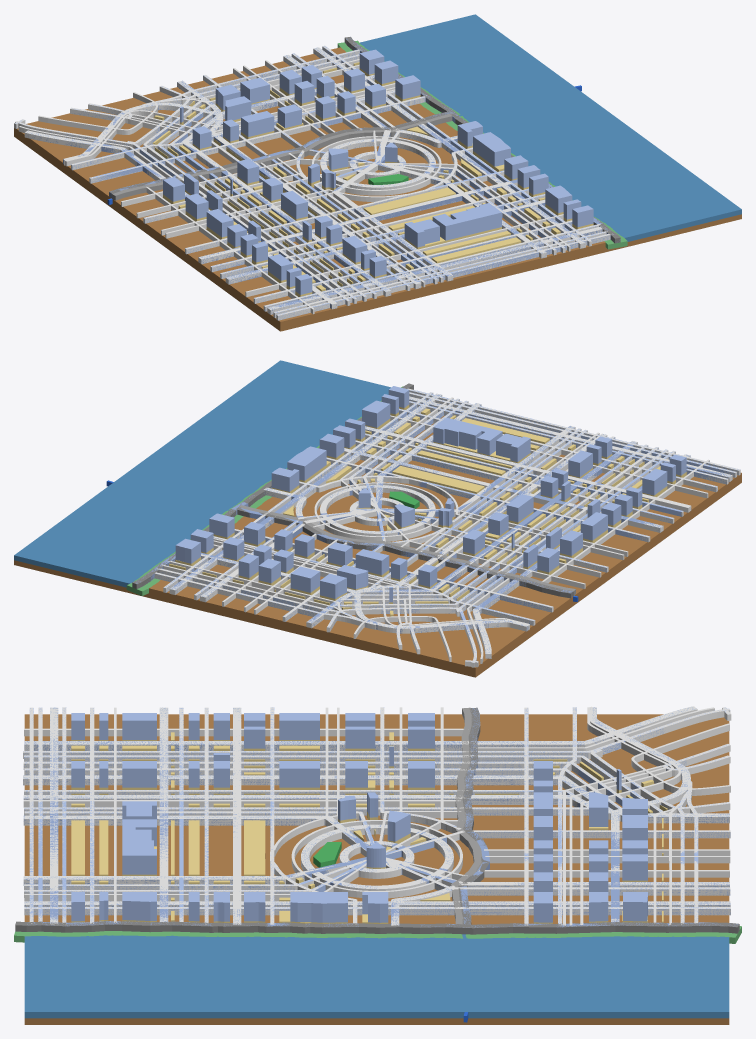
File: city.glb
3 views of the same model, one above another, from view 1: azimuth 30°, elevation 25°; view 2: azimuth 150°, elevation 25°; view 3: azimuth 270°, elevation 25° (orthographic). The views are drawn at different scales.
Parts seen in each view (by area): view 1: roads, sea, buildings_divided, ground, major_roads, blocks, main_roads, water_roads_secondary, water_roads, coastline; view 2: roads, sea, buildings_divided, ground, major_roads, blocks, main_roads, water_roads, water_roads_secondary, coastline; view 3: roads, sea, ground, buildings_divided, major_roads, main_roads, blocks, water_roads, coastline, water_roads_secondary, big_parks.
Part boxes in pixels (x1,y1,x2,y2): roads: (14, 45, 610, 320); sea: (360, 14, 741, 241); buildings_divided: (163, 49, 593, 294); ground: (14, 47, 741, 331); major_roads: (15, 46, 610, 319); blocks: (152, 62, 593, 296); main_roads: (27, 38, 620, 314); water_roads_secondary: (111, 113, 452, 200); water_roads: (109, 37, 620, 243); coastline: (337, 40, 627, 249); roads: (154, 388, 740, 667); sea: (14, 360, 390, 587); buildings_divided: (175, 386, 686, 602); ground: (14, 412, 741, 677); major_roads: (155, 390, 740, 662); blocks: (169, 405, 686, 616); main_roads: (136, 394, 731, 658); water_roads: (132, 383, 572, 598); water_roads_secondary: (239, 505, 575, 596); coastline: (126, 386, 402, 595); roads: (23, 706, 731, 925); sea: (24, 934, 729, 1018); ground: (24, 714, 729, 1024); buildings_divided: (71, 713, 647, 922); major_roads: (23, 707, 730, 925); main_roads: (23, 707, 737, 927); blocks: (71, 732, 667, 923); water_roads: (15, 707, 739, 934); coastline: (14, 926, 741, 943); water_roads_secondary: (451, 707, 482, 924); big_parks: (313, 842, 341, 867).
Bounding box in the file's own units: 102 × 6 × 103.
